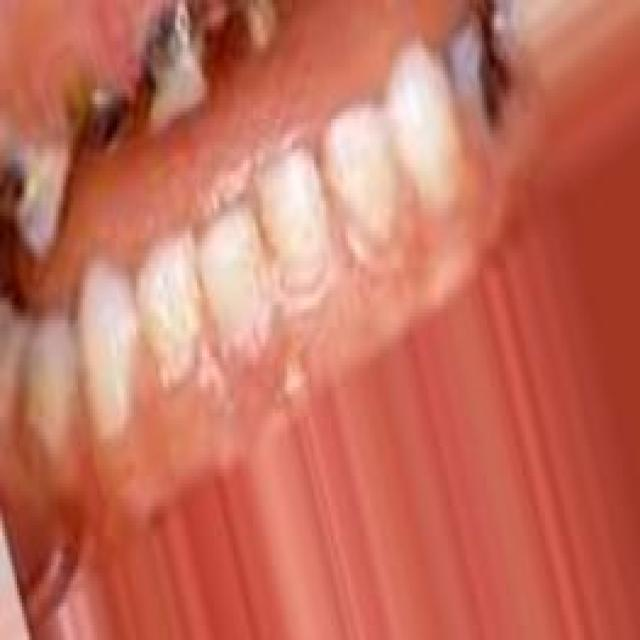caries: (138, 0, 212, 130), (453, 23, 518, 151), (64, 61, 134, 156), (0, 135, 51, 242)
